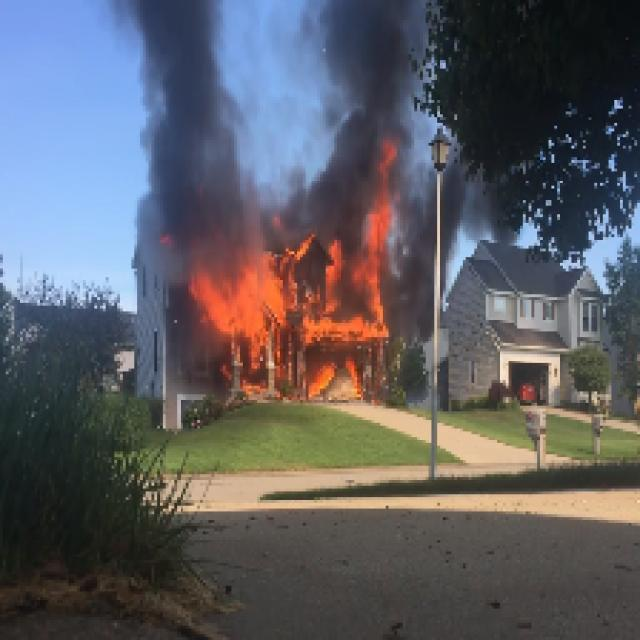Fire: (195, 240, 352, 337), (357, 151, 397, 340)
Smoke: (118, 3, 252, 220), (266, 3, 426, 140), (286, 154, 352, 229), (403, 168, 431, 332)
